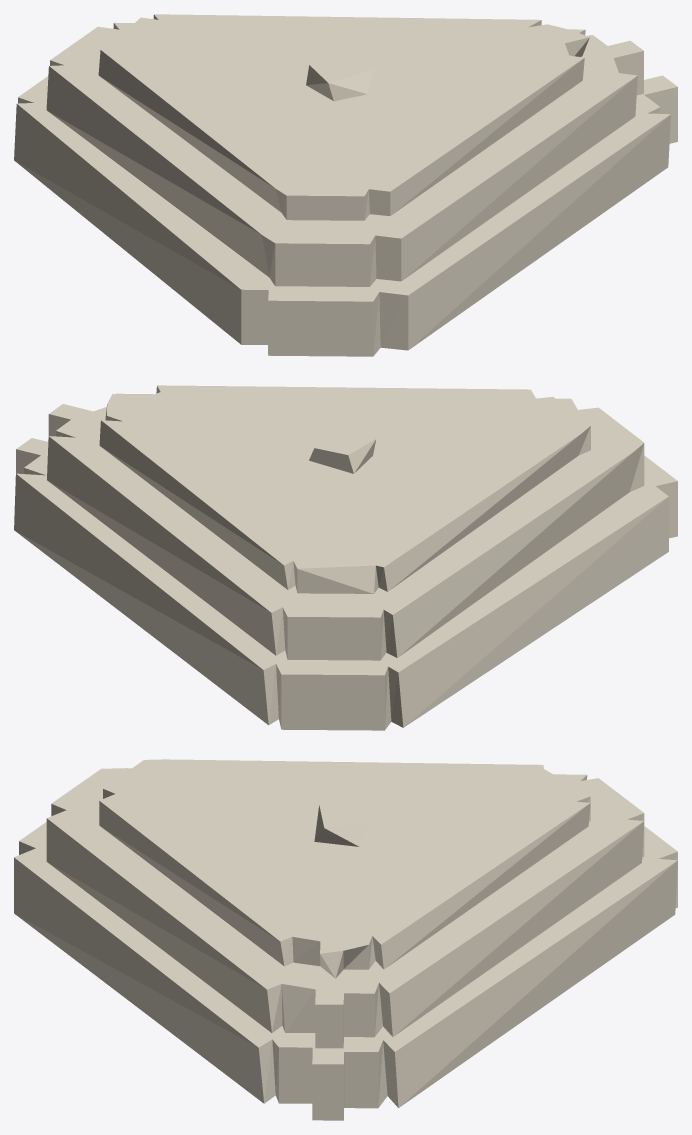
File: new-parliament-house_lod1.glb
3 renders of one model, top to bottom at view 1: azimuth 30°, elevation 25°; view 2: azimuth 150°, elevation 25°; view 3: azimuth 270°, elevation 25°, orthographic.
Visible parts, largest first — view 1: new-parliament-house; view 2: new-parliament-house; view 3: new-parliament-house.
Part boxes in pixels (bbox=[...]): new-parliament-house: bbox=[14, 14, 677, 356]; new-parliament-house: bbox=[14, 385, 677, 730]; new-parliament-house: bbox=[14, 759, 677, 1120].
Size of the model in its own units: 181 by 45.6 by 191.
